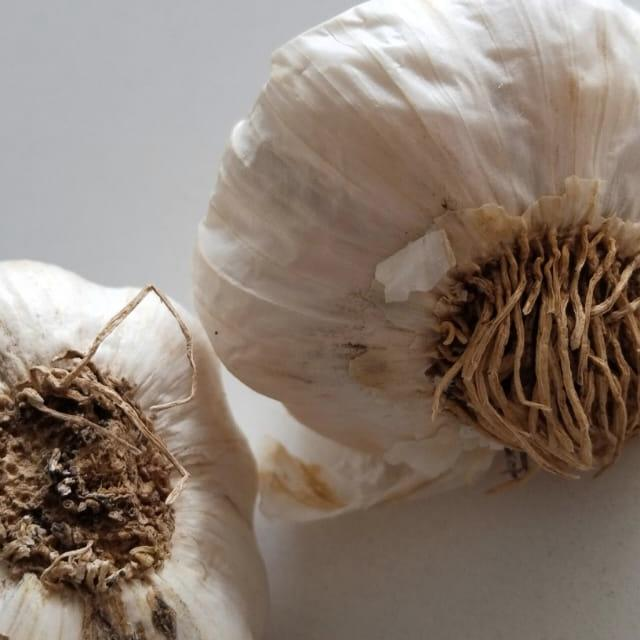garlic: (211, 0, 640, 493), (0, 226, 299, 640)
